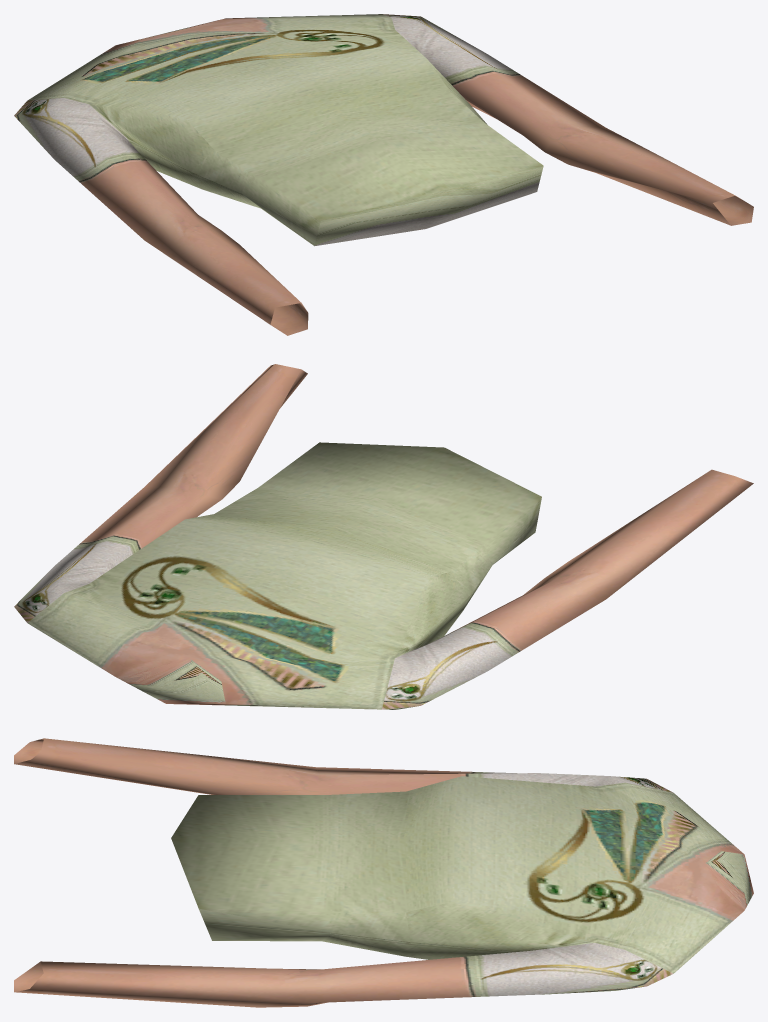
File: f_Torso1.glb
3 renders of one model, top to bottom at view 1: azimuth 30°, elevation 25°; view 2: azimuth 150°, elevation 25°; view 3: azimuth 270°, elevation 25°, orthographic. The views are drawn at different scales.
Parts seen in each view (by area): view 1: Torso1; view 2: Torso1; view 3: Torso1.
Boxes of the visible parts, bbox=[...] form: Torso1: bbox=[14, 14, 753, 335]; Torso1: bbox=[14, 364, 753, 709]; Torso1: bbox=[14, 738, 753, 1007].
Bounding box in the file's own units: 27.65 × 4.07 × 35.02.
1 material, 1 textured.
